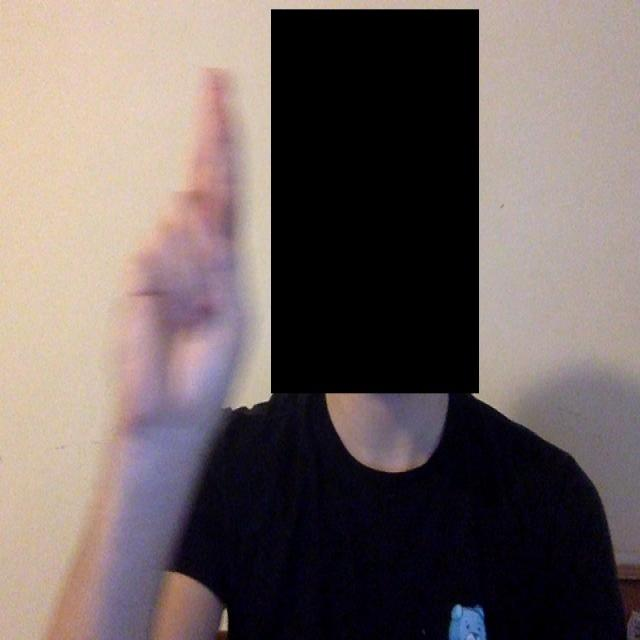R: (105, 47, 258, 488)
